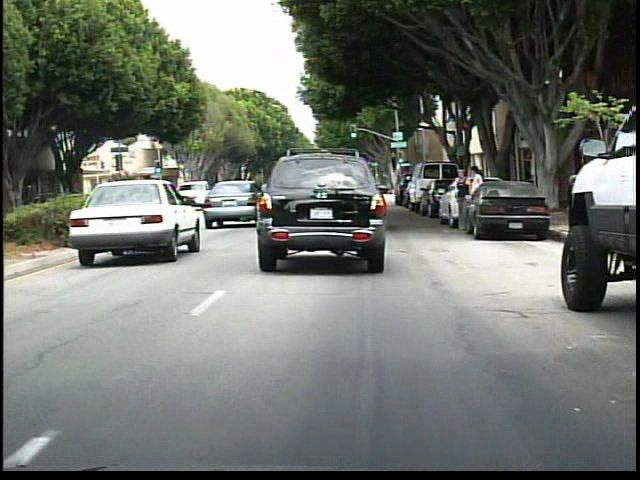person: (453, 167, 474, 237), (467, 164, 488, 231)
